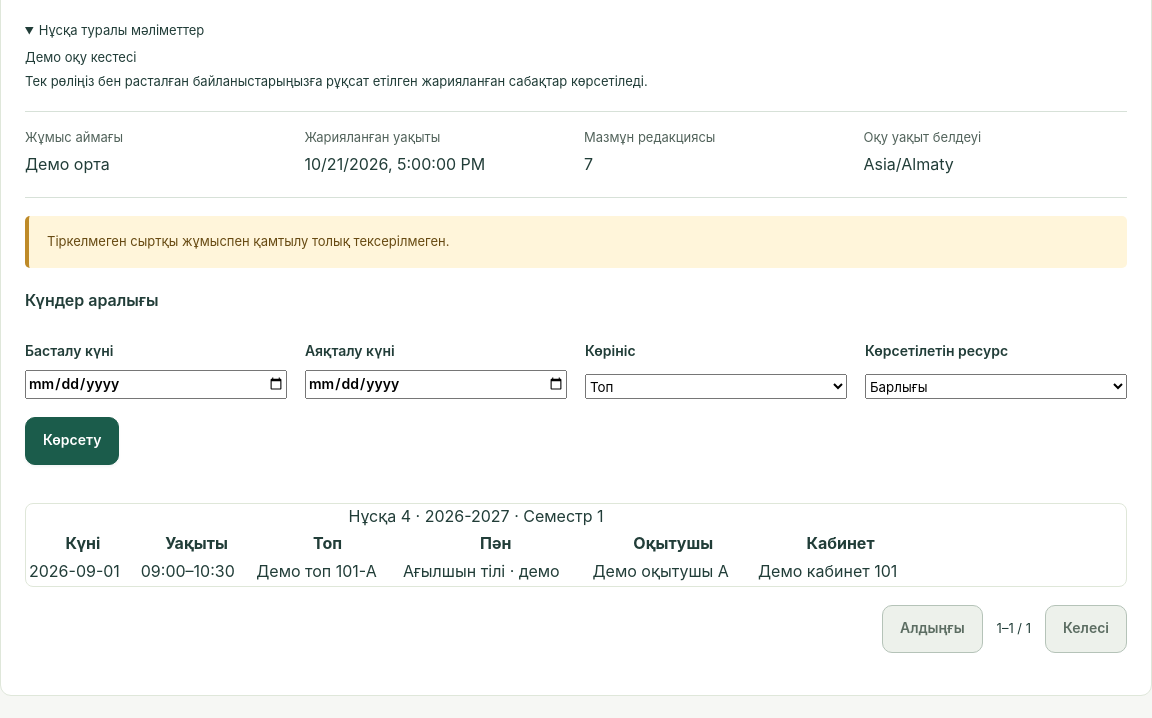
clears previously visible closed events when access is revoked on the next read
(page scrolled)
Expected: the table is shown, [26, 504, 926, 586]
Step 1. Click the button "Көрсету" → (72,441), box [25, 417, 119, 465]
(page scrolled)
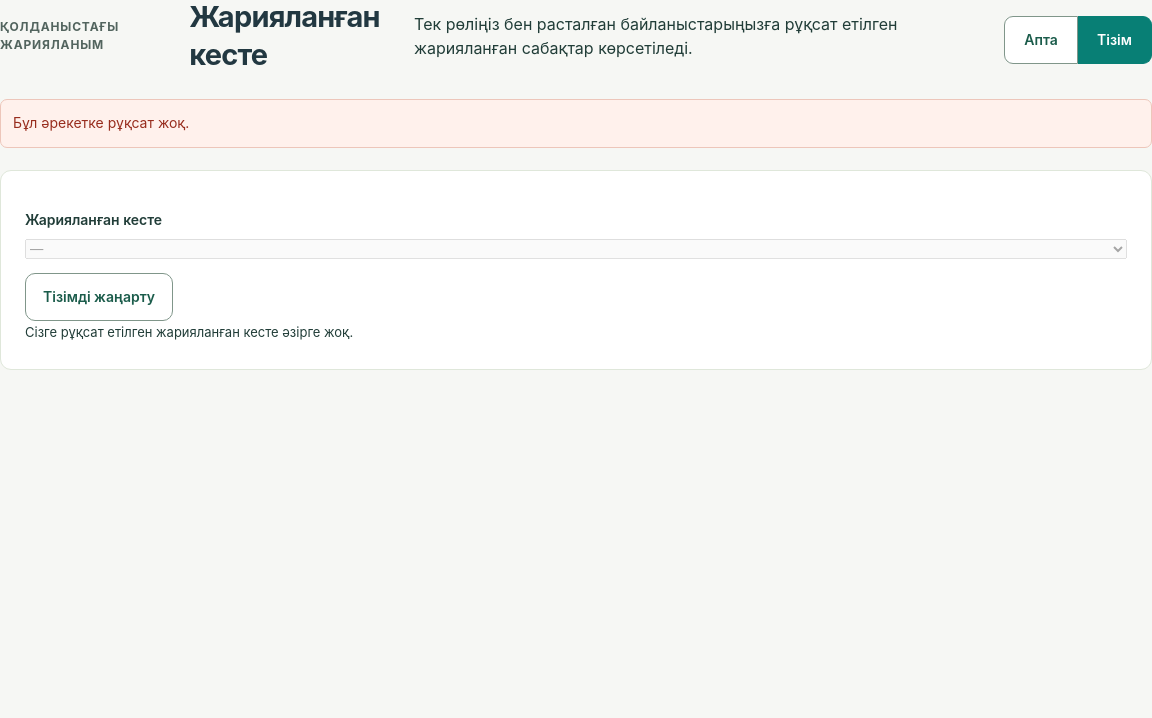
Expected: the message "Бұл әрекетке рұқсат жоқ." is shown, [0, 99, 1151, 148]
Expected: the table is gone
Expected: the text "Ағылшын тілі · демо" is gone
